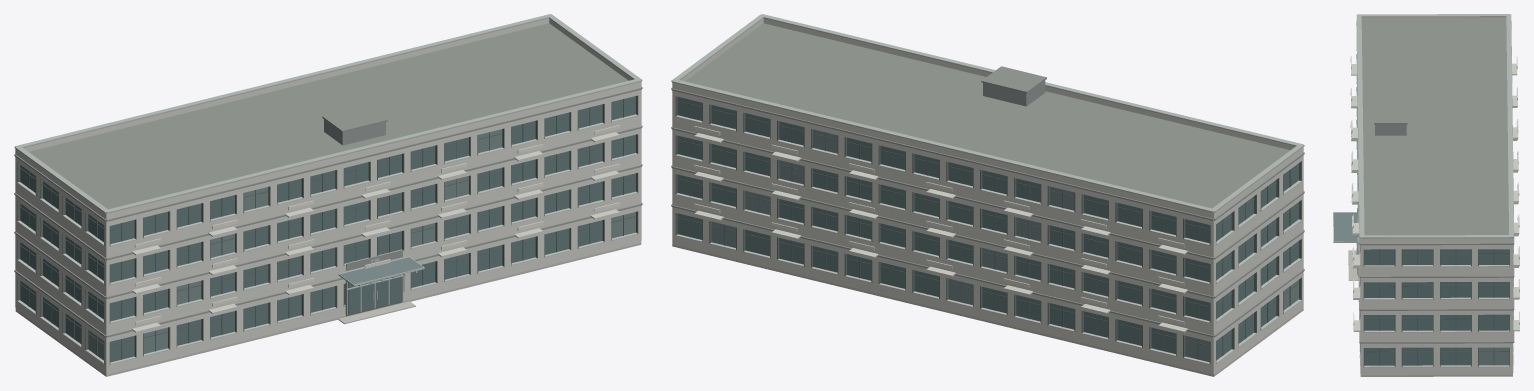
File: mapped_270048434.glb
3 renders of one model, left to right at view 1: azimuth 30°, elevation 25°; view 2: azimuth 150°, elevation 25°; view 3: azimuth 270°, elevation 25°, orthographic. The views are drawn at different scales.
Parts seen in each view (by area): view 1: mapped_270048434_HousingIvory, mapped_270048434_FacultyRoof, mapped_270048434_WindowGlass, mapped_270048434_WindowReveal, mapped_270048434_FacultyDarkPanel, mapped_270048434_WindowAluminium, mapped_270048434_Teaching5TileJoint, mapped_270048434_WindowGlassLight, mapped_270048434_WindowRubber, mapped_270048434_WhiteTrim, mapped_270048434_EntryStone; view 2: mapped_270048434_HousingIvory, mapped_270048434_FacultyRoof, mapped_270048434_WindowGlass, mapped_270048434_WindowReveal, mapped_270048434_FacultyDarkPanel, mapped_270048434_WindowAluminium, mapped_270048434_Teaching5TileJoint, mapped_270048434_WindowRubber, mapped_270048434_WindowGlassLight, mapped_270048434_WhiteTrim, mapped_270048434_EntryStone; view 3: mapped_270048434_FacultyRoof, mapped_270048434_HousingIvory, mapped_270048434_WindowGlass, mapped_270048434_Teaching5TileJoint, mapped_270048434_FacultyDarkPanel, mapped_270048434_WindowAluminium, mapped_270048434_WindowGlassLight, mapped_270048434_WindowRubber, mapped_270048434_WindowReveal, mapped_270048434_EntryStone, mapped_270048434_WhiteTrim.
Part boxes in pixels (x1,y1,x2,y2): mapped_270048434_HousingIvory: (15, 18, 641, 374); mapped_270048434_FacultyRoof: (29, 23, 628, 209); mapped_270048434_WindowGlass: (20, 96, 635, 362); mapped_270048434_WindowReveal: (17, 95, 638, 364); mapped_270048434_FacultyDarkPanel: (14, 87, 642, 337); mapped_270048434_WindowAluminium: (17, 114, 638, 364); mapped_270048434_Teaching5TileJoint: (14, 14, 642, 213); mapped_270048434_WindowGlassLight: (88, 129, 635, 360); mapped_270048434_WindowRubber: (19, 99, 636, 359); mapped_270048434_WhiteTrim: (135, 125, 619, 325); mapped_270048434_EntryStone: (15, 243, 641, 376); mapped_270048434_HousingIvory: (672, 18, 1303, 374); mapped_270048434_FacultyRoof: (685, 23, 1290, 208); mapped_270048434_WindowGlass: (677, 97, 1298, 360); mapped_270048434_WindowReveal: (675, 96, 1301, 364); mapped_270048434_FacultyDarkPanel: (671, 80, 1304, 337); mapped_270048434_WindowAluminium: (675, 115, 1301, 364); mapped_270048434_Teaching5TileJoint: (671, 14, 1304, 212); mapped_270048434_WindowRubber: (677, 100, 1299, 359); mapped_270048434_WindowGlassLight: (711, 129, 1298, 362); mapped_270048434_WhiteTrim: (694, 126, 1184, 325); mapped_270048434_EntryStone: (672, 244, 1303, 376); mapped_270048434_FacultyRoof: (1361, 21, 1508, 235); mapped_270048434_HousingIvory: (1351, 17, 1519, 375); mapped_270048434_WindowGlass: (1364, 249, 1509, 365); mapped_270048434_Teaching5TileJoint: (1356, 14, 1513, 238); mapped_270048434_FacultyDarkPanel: (1356, 21, 1514, 343); mapped_270048434_WindowAluminium: (1333, 212, 1513, 367); mapped_270048434_WindowGlassLight: (1333, 212, 1509, 365); mapped_270048434_WindowRubber: (1364, 249, 1509, 365); mapped_270048434_WindowReveal: (1360, 245, 1509, 366); mapped_270048434_EntryStone: (1348, 250, 1512, 376); mapped_270048434_WhiteTrim: (1350, 56, 1519, 325).
Bounding box in the file's own units: 50.1 × 15.88 × 17.7.
